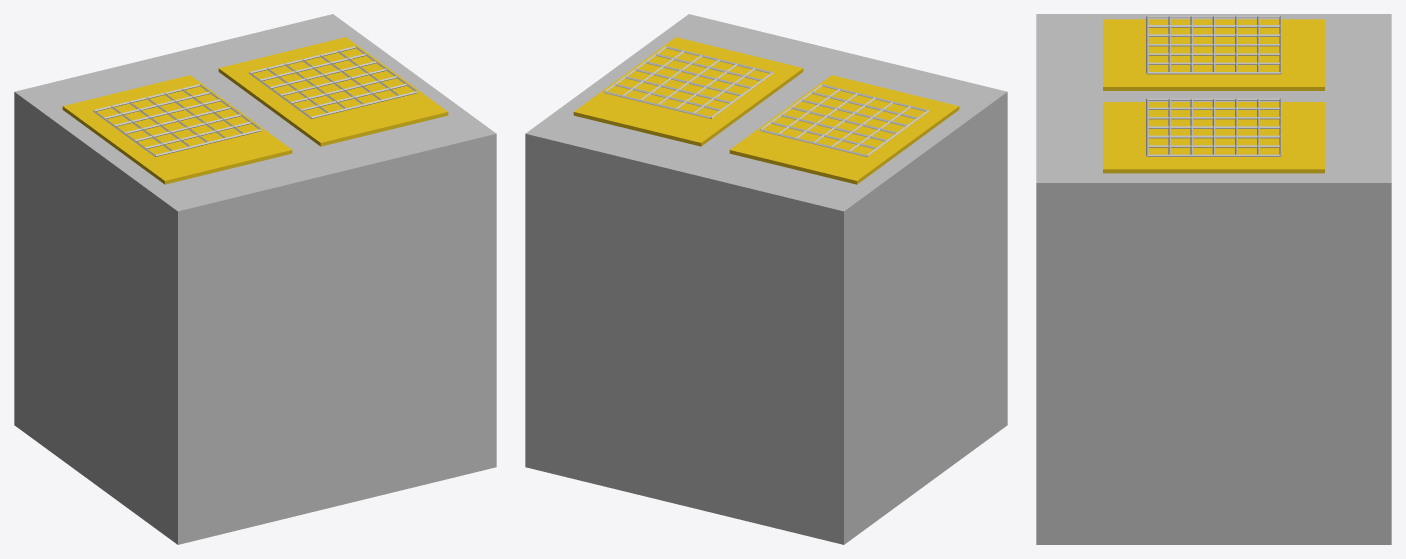
The model's file is hospitality.kitchen.fryer.glb.
3 renders of one model, left to right at view 1: azimuth 30°, elevation 25°; view 2: azimuth 150°, elevation 25°; view 3: azimuth 270°, elevation 25°, orthographic. The views are drawn at different scales.
Visible parts, largest first — view 1: main__steel_stainless, main__plastic_yellow; view 2: main__steel_stainless, main__plastic_yellow; view 3: main__steel_stainless, main__plastic_yellow.
Boxes of the visible parts, x1,y1,x2,y2 form: main__steel_stainless: (14, 14, 496, 544); main__plastic_yellow: (62, 37, 448, 184); main__steel_stainless: (525, 14, 1007, 544); main__plastic_yellow: (573, 37, 959, 184); main__steel_stainless: (1036, 14, 1391, 544); main__plastic_yellow: (1103, 19, 1324, 173).
Size of the model in its own units: 0.9 by 0.933 by 0.8.
